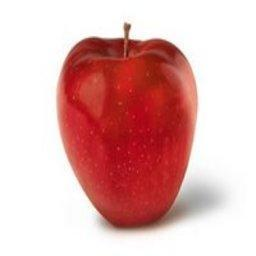apple: (56, 36, 198, 229)
